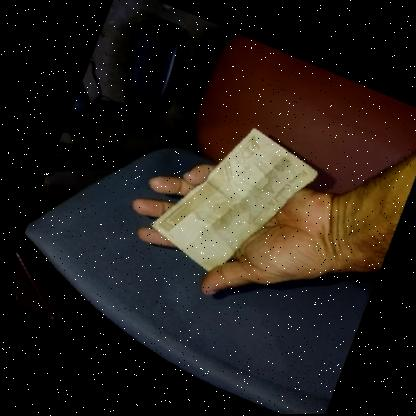five-back-vef: (138, 112, 326, 287)
